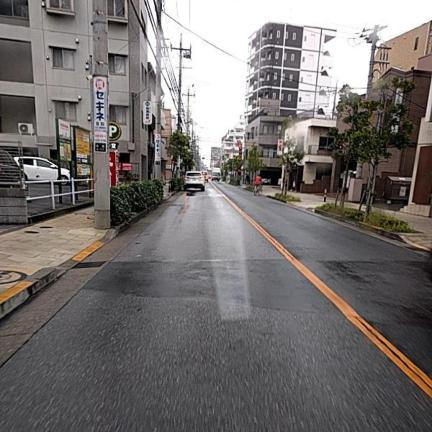Road: (0, 184, 431, 431)
